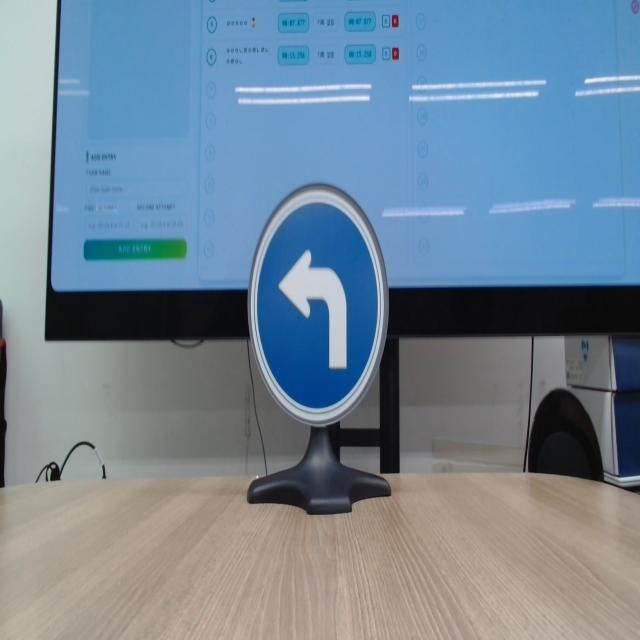left_direction: (240, 178, 393, 432)
